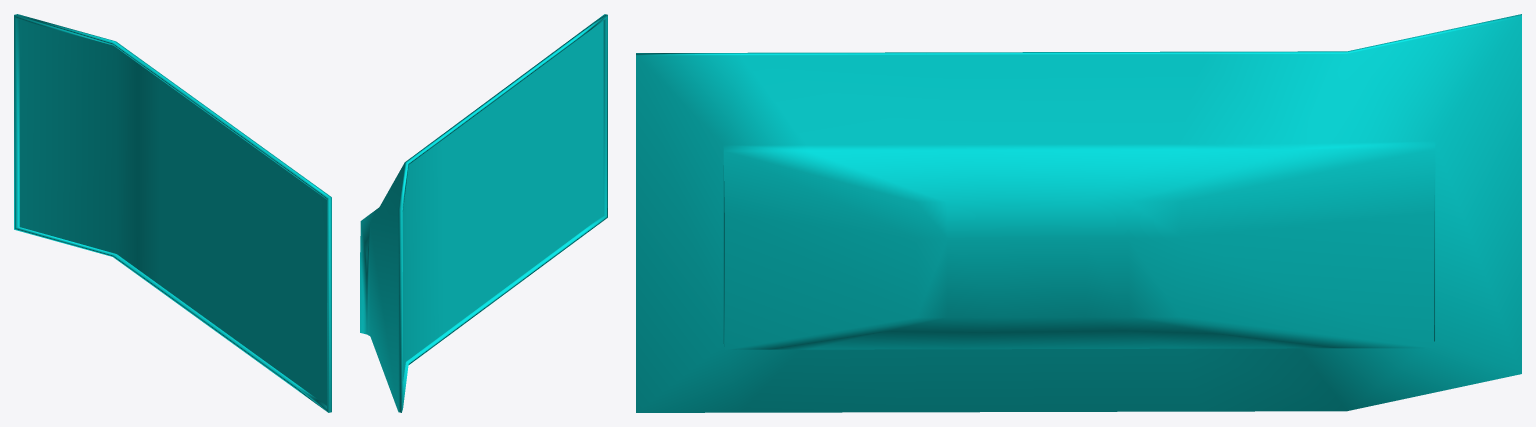
The model's file is mdl_Corredor_TV_Izq.fbx.
The picture shows the model from 3 angles, left to right: view 1: azimuth 30°, elevation 25°; view 2: azimuth 150°, elevation 25°; view 3: azimuth 270°, elevation 25°; orthographic projection. The views are drawn at different scales.
Parts seen in each view (by area): view 1: mdl_Corredor_TV_Izq; view 2: mdl_Corredor_TV_Izq; view 3: mdl_Corredor_TV_Izq.
Boxes of the visible parts, left/top/right/bottom form: mdl_Corredor_TV_Izq: left=14, top=14, right=331, bottom=412; mdl_Corredor_TV_Izq: left=360, top=14, right=607, bottom=412; mdl_Corredor_TV_Izq: left=636, top=14, right=1521, bottom=412.
Size of the model in its own units: 1.08 by 2.64 by 5.93.
